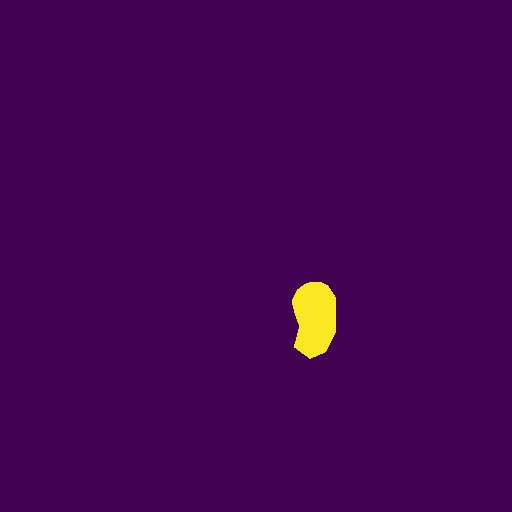Gliomia_tumour: (292, 282, 336, 359)
